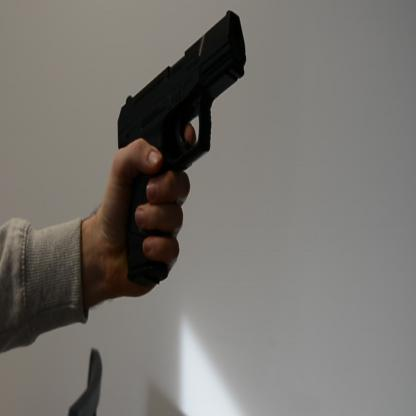gun: (116, 6, 246, 289)
